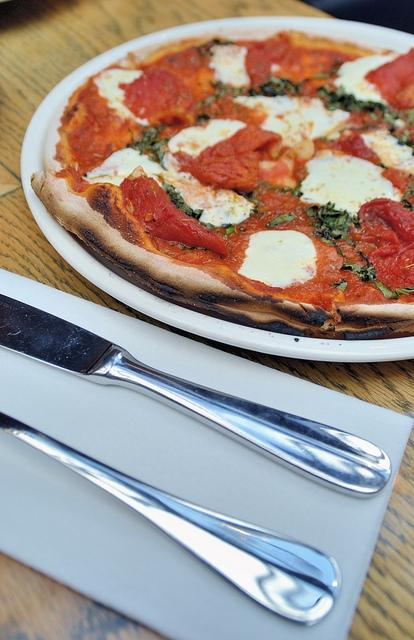tomato: (119, 177, 230, 256), (120, 67, 198, 119), (358, 197, 414, 255), (364, 46, 414, 110), (188, 150, 261, 192), (338, 136, 381, 164), (267, 34, 294, 70), (246, 48, 272, 85)
